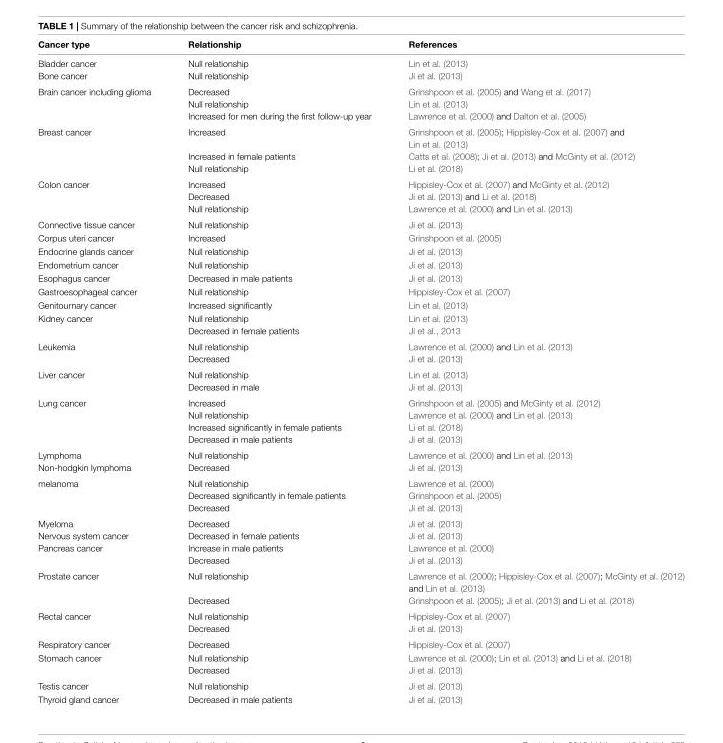table: (37, 37, 683, 703)
table column: (389, 37, 683, 703), (168, 37, 389, 703), (37, 37, 168, 703)
table column header: (37, 37, 683, 53)
table row: (37, 37, 683, 53), (37, 53, 683, 68), (37, 215, 683, 230), (37, 365, 683, 380), (37, 635, 683, 650), (37, 68, 683, 82), (37, 82, 683, 96), (37, 109, 683, 123), (37, 123, 683, 137), (37, 161, 683, 175), (37, 175, 683, 189), (37, 201, 683, 215), (37, 243, 683, 257), (37, 270, 683, 284), (37, 297, 683, 311), (37, 323, 683, 337), (37, 337, 683, 351), (37, 351, 683, 365), (37, 380, 683, 394), (37, 394, 683, 408), (37, 432, 683, 446), (37, 446, 683, 460), (37, 460, 683, 474), (37, 474, 683, 488), (37, 500, 683, 514), (37, 514, 683, 528), (37, 553, 683, 567), (37, 567, 683, 581), (37, 593, 683, 607), (37, 607, 683, 621), (37, 621, 683, 635), (37, 663, 683, 677), (37, 677, 683, 691), (37, 96, 683, 109), (37, 230, 683, 243), (37, 257, 683, 270), (37, 284, 683, 297), (37, 528, 683, 541), (37, 650, 683, 663), (37, 137, 683, 149), (37, 149, 683, 161), (37, 189, 683, 201), (37, 311, 683, 323), (37, 408, 683, 420), (37, 420, 683, 432), (37, 488, 683, 500), (37, 541, 683, 553), (37, 581, 683, 593), (37, 691, 683, 703)
table spanning cell: (37, 123, 168, 175), (37, 394, 168, 446), (37, 82, 168, 123), (37, 175, 168, 215), (37, 474, 168, 514), (37, 567, 168, 607), (37, 365, 168, 394), (37, 337, 168, 365), (37, 607, 168, 635), (37, 650, 168, 677), (37, 311, 168, 337), (37, 541, 168, 567)
